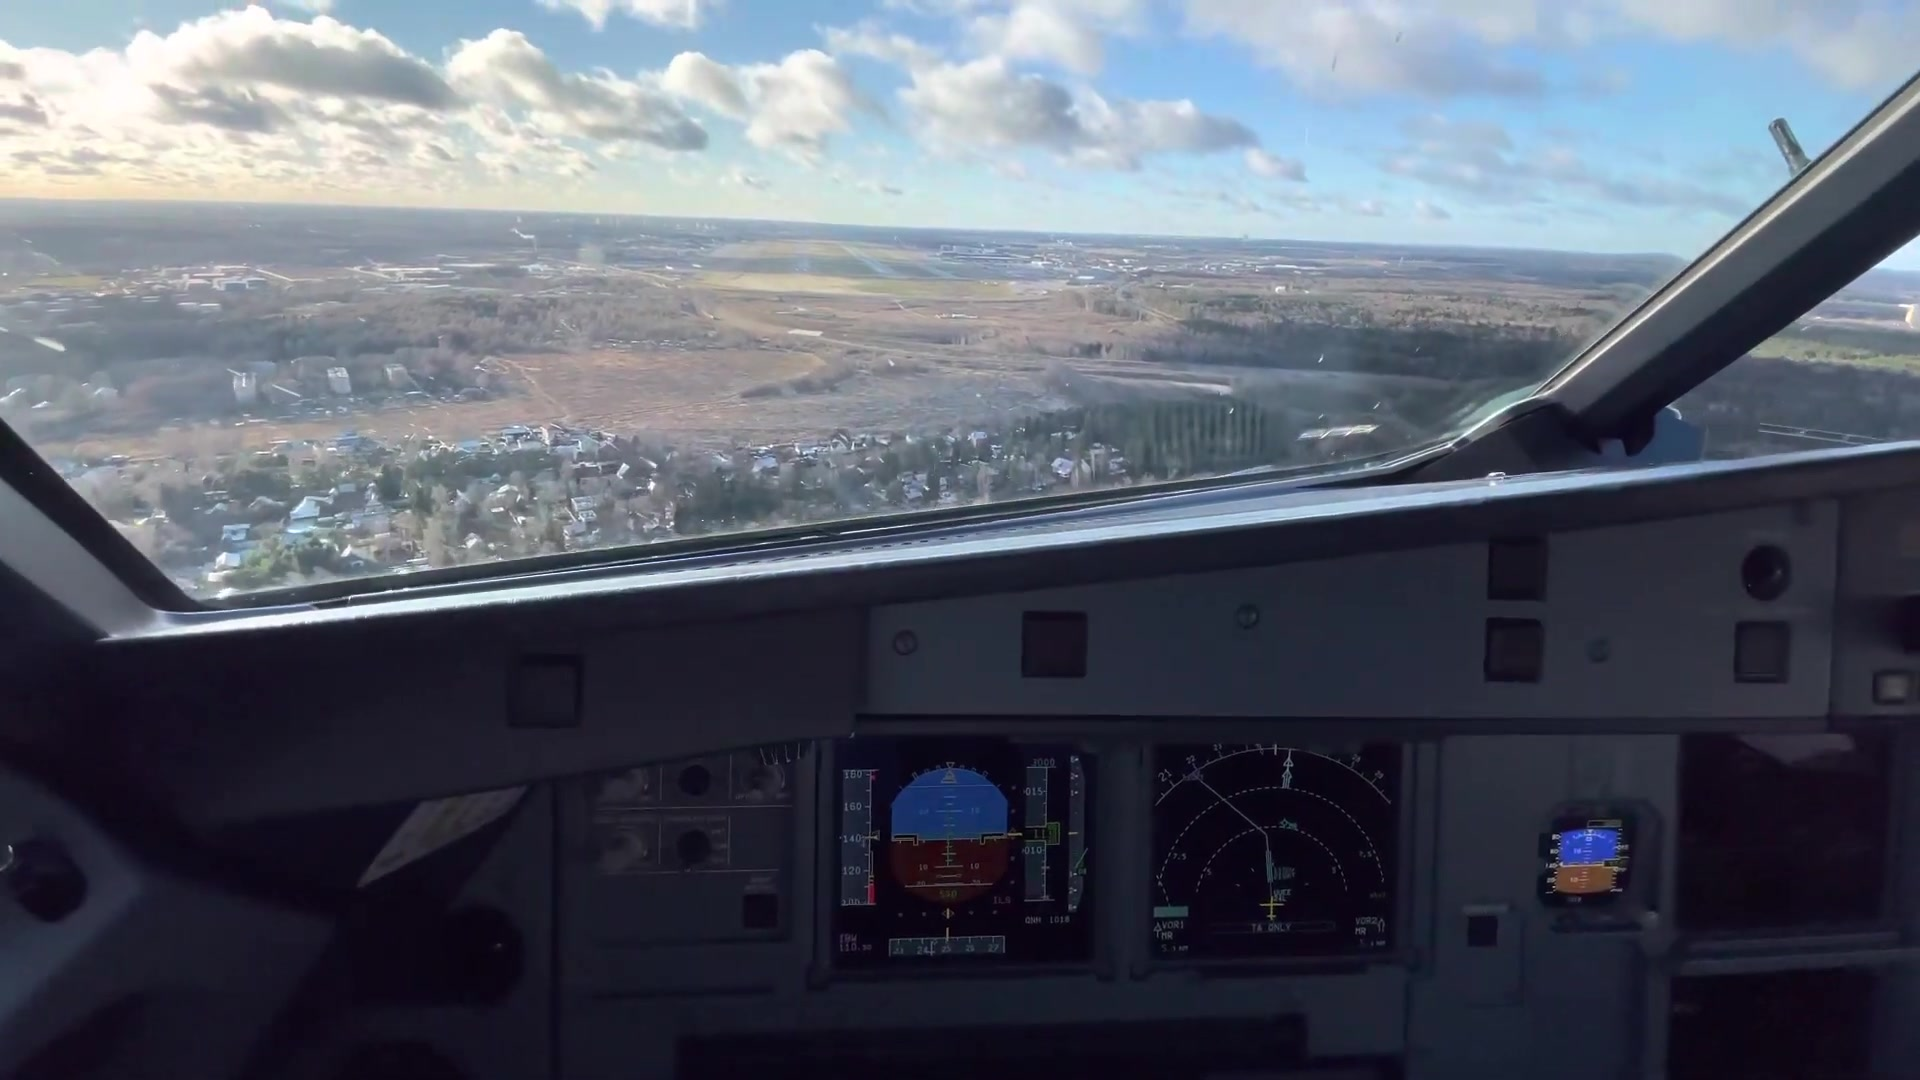runway: (837, 241, 907, 277), (791, 233, 814, 277)
